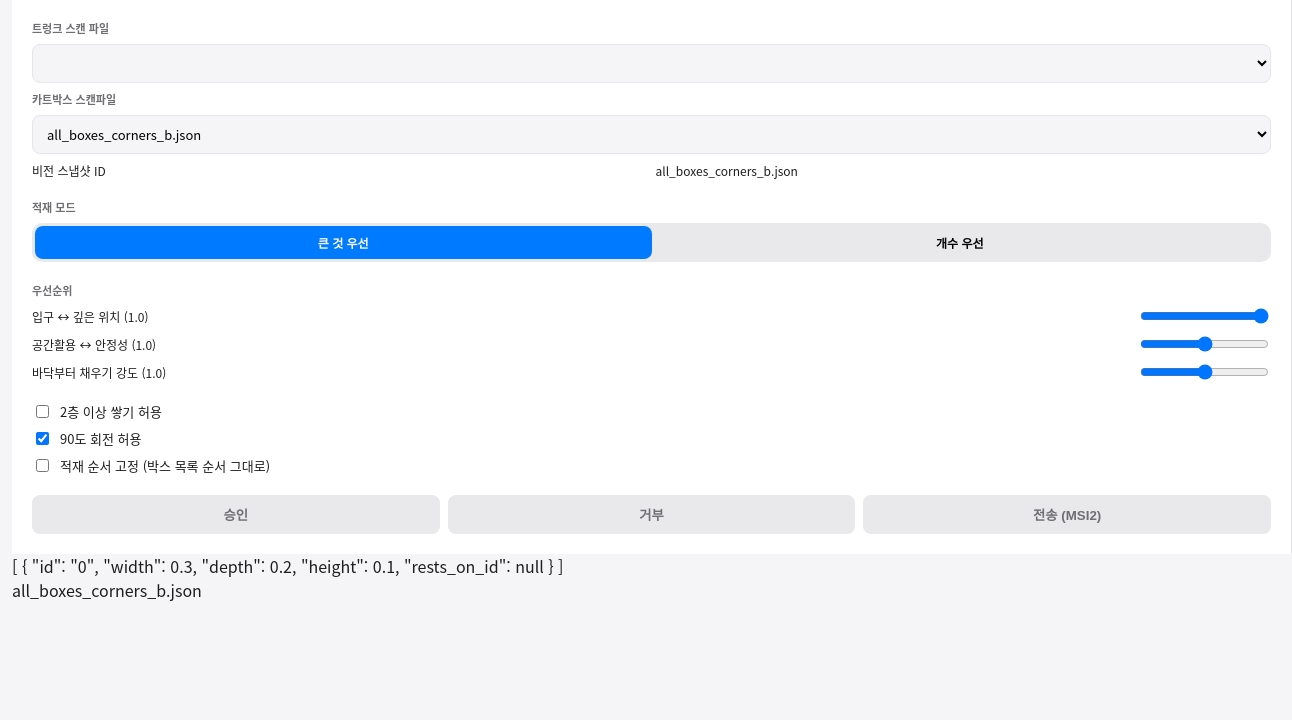
Test: RealtimeControlPanel › switching the dropdown loads the newly selected file
Expected: the text with test id "snapshot-id" reads "all_boxes_corners_b.json", [12,578,202,602]
Select "all_boxes_corners_a.json" in the dropdown with test id "box-scan-file-select": coordinates (652, 134) [32,115,1271,154]
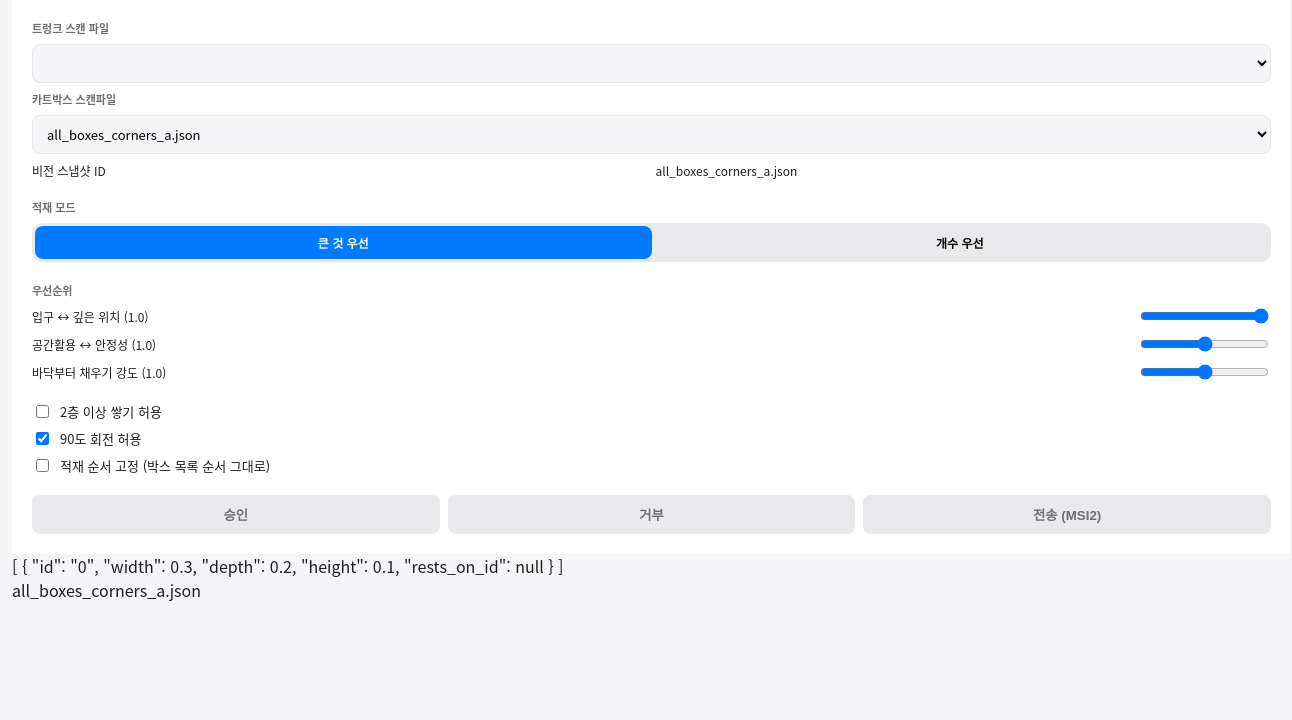
Expected: the text with test id "snapshot-id" reads "all_boxes_corners_a.json", [12,578,201,602]
